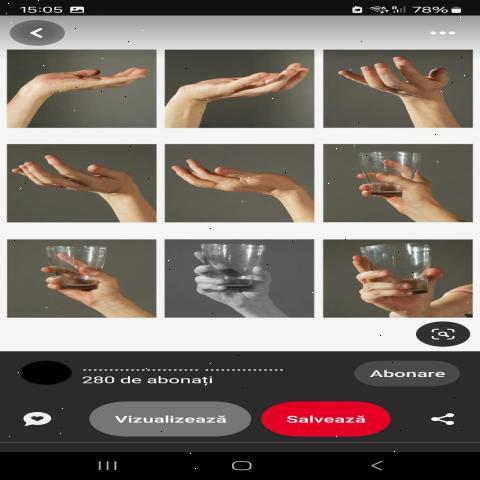Hands: (331, 44, 463, 127), (170, 146, 317, 214), (11, 148, 154, 212), (165, 52, 315, 112), (18, 57, 158, 120)
